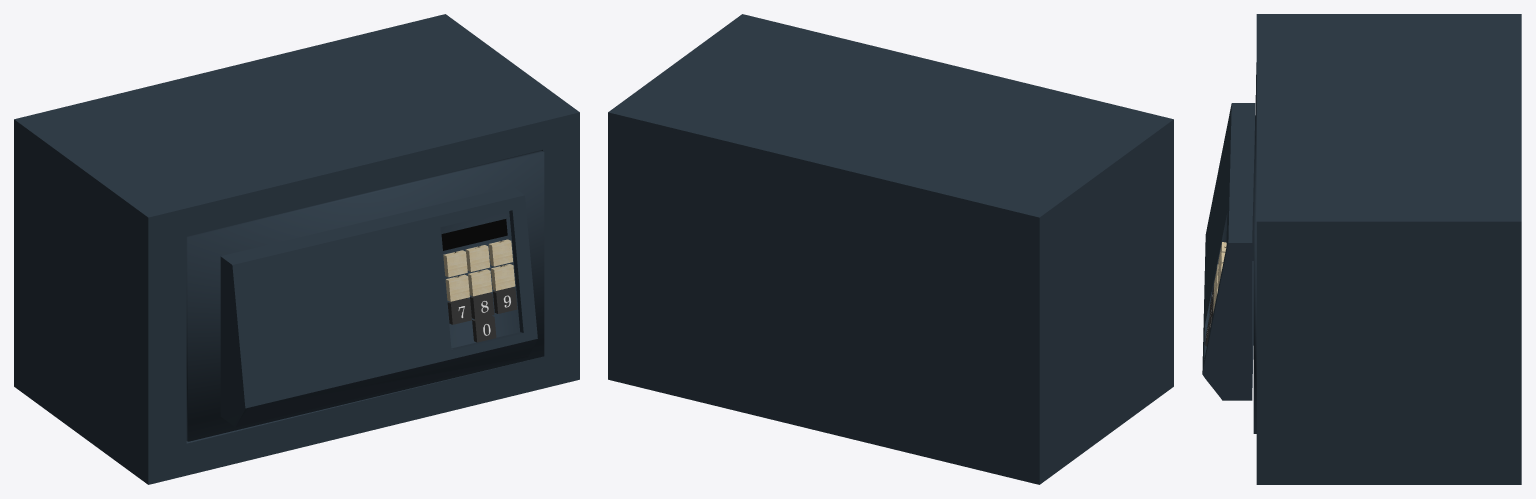
The model's file is Safe.fbx.
3 views of the same model, side by side, from view 1: azimuth 30°, elevation 25°; view 2: azimuth 150°, elevation 25°; view 3: azimuth 270°, elevation 25° (orthographic).
Visible parts, largest first — view 1: Safe, Safe Door, Display; view 2: Safe; view 3: Safe, Safe Door.
Part boxes in pixels (x1,y1,x2,y2): Safe: (14, 14, 579, 484); Safe Door: (186, 150, 544, 441); Display: (441, 219, 507, 250); Safe: (608, 14, 1173, 484); Safe: (1256, 14, 1521, 484); Safe Door: (1202, 62, 1256, 433).
Size of the model in its own units: 458 by 271 by 297.
